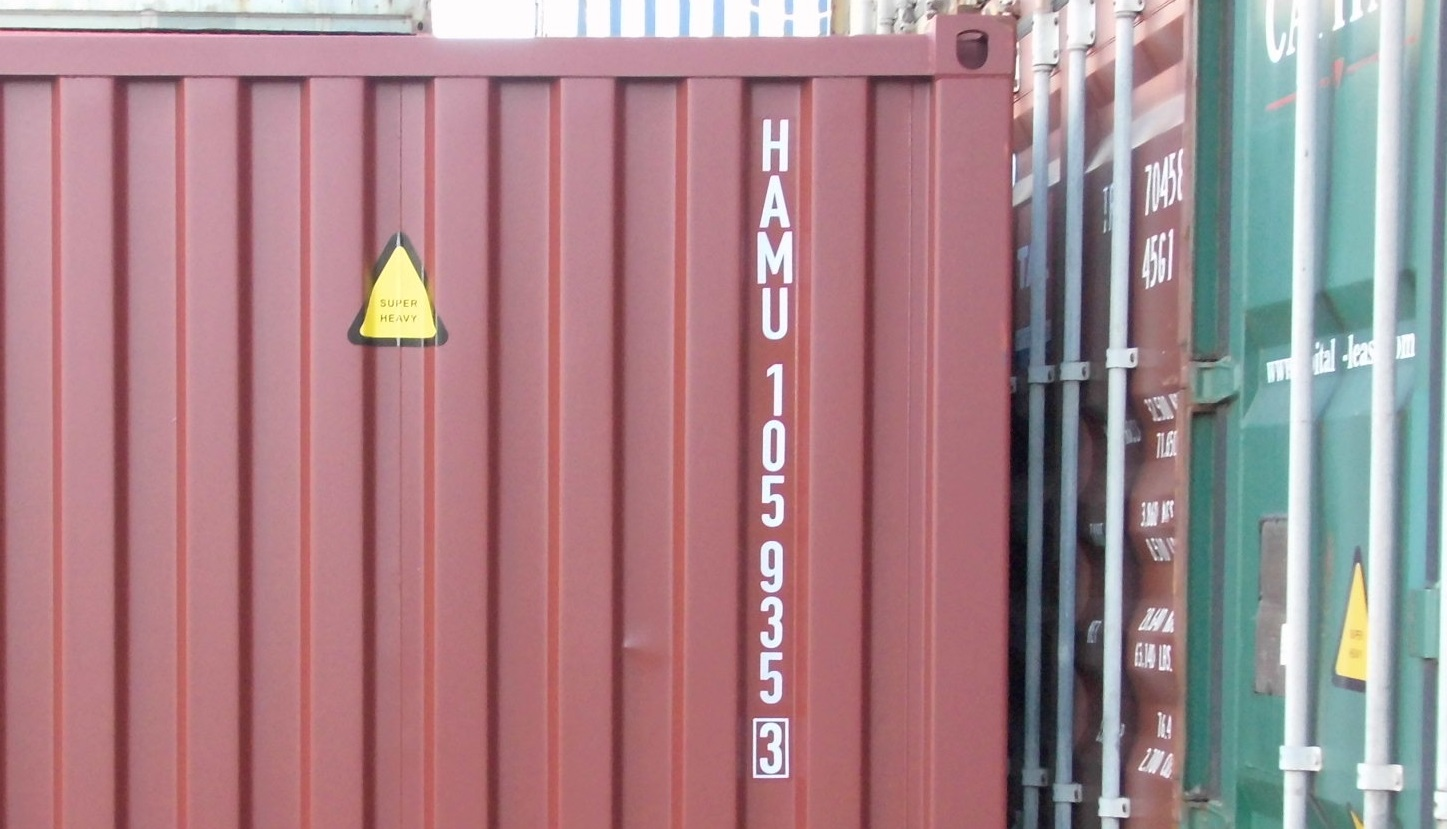container_no_door: (4, 24, 1013, 829)
